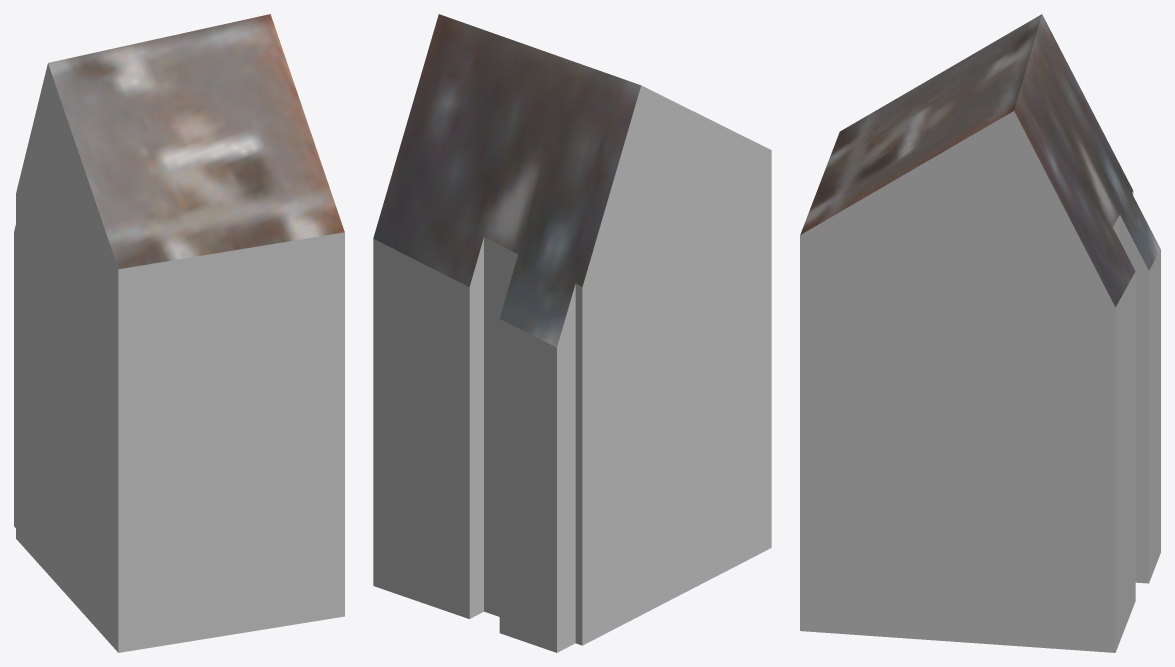
The model's file is DEBW_0010007Tx50.gltf.
3 renders of one model, left to right at view 1: azimuth 30°, elevation 25°; view 2: azimuth 150°, elevation 25°; view 3: azimuth 270°, elevation 25°, orthographic. The views are drawn at different scales.
Visible parts, largest first — view 1: Z_UP; view 2: Z_UP; view 3: Z_UP.
Boxes of the visible parts, x1=… form: Z_UP: x1=14, y1=14, x2=344, y2=652; Z_UP: x1=373, y1=14, x2=771, y2=652; Z_UP: x1=800, y1=14, x2=1160, y2=652.
Bounding box in the file's own units: 9.55 × 18.9 × 11.55.
2 materials, 1 textured.
